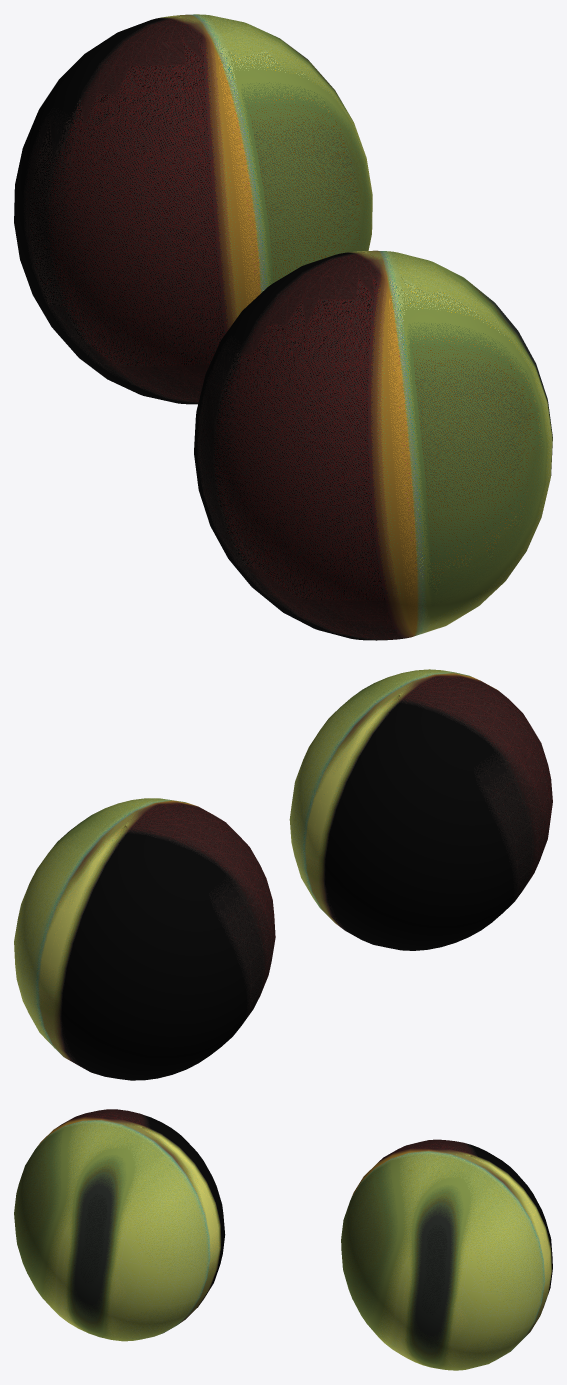
The model's file is Doar_Ochi_Fire.fbx.
The picture shows the model from 3 angles, top to bottom: view 1: azimuth 30°, elevation 25°; view 2: azimuth 150°, elevation 25°; view 3: azimuth 270°, elevation 25°; orthographic projection. The views are drawn at different scales.
Visible parts, largest first — view 1: Sphere, Sphere.001; view 2: Sphere, Sphere.001; view 3: Sphere.001, Sphere.
Part boxes in pixels (bbox=[...]): Sphere: bbox=[194, 250, 552, 640]; Sphere.001: bbox=[14, 14, 372, 404]; Sphere: bbox=[289, 669, 552, 950]; Sphere.001: bbox=[14, 798, 275, 1080]; Sphere.001: bbox=[341, 1139, 552, 1370]; Sphere: bbox=[14, 1109, 225, 1341].
Bounding box in the file's own units: 2208 × 1829 × 4275.
Materials: 2 (2 with a texture image).
